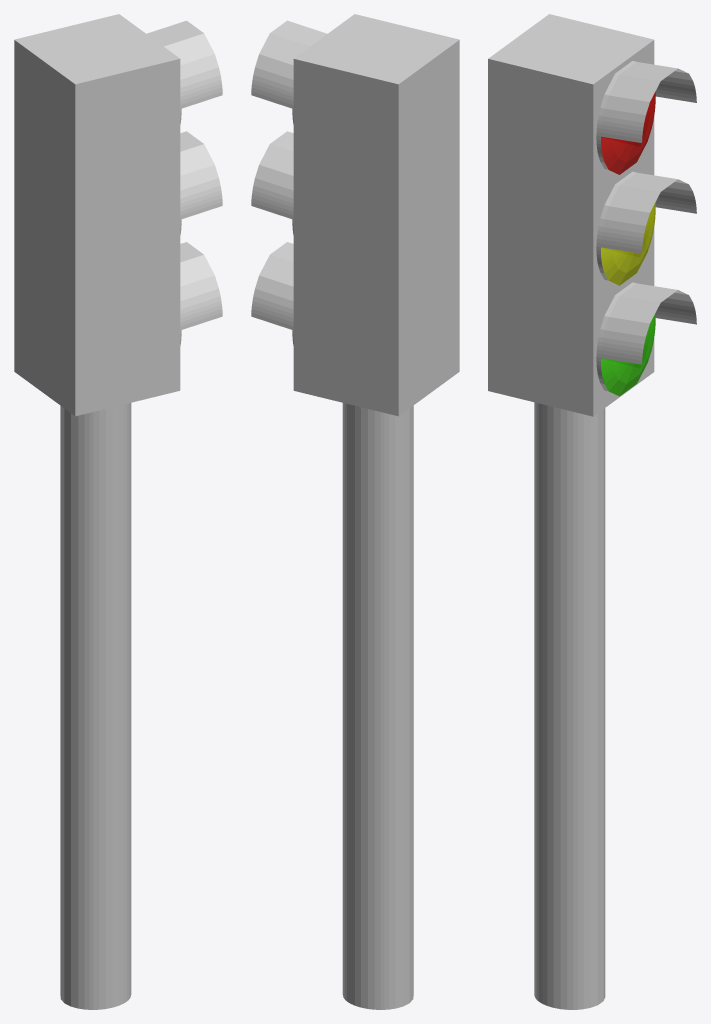
File: Semaphore.fbx
3 renders of one model, left to right at view 1: azimuth 30°, elevation 25°; view 2: azimuth 150°, elevation 25°; view 3: azimuth 330°, elevation 25°, orthographic.
Visible parts, largest first — view 1: Traffic light; view 2: Traffic light; view 3: Traffic light.
Boxes of the visible parts, bbox=[...] form: Traffic light: bbox=[14, 14, 222, 1009]; Traffic light: bbox=[251, 14, 459, 1009]; Traffic light: bbox=[488, 14, 696, 1009].
Size of the model in its own units: 27.94 by 168 by 19.64.
